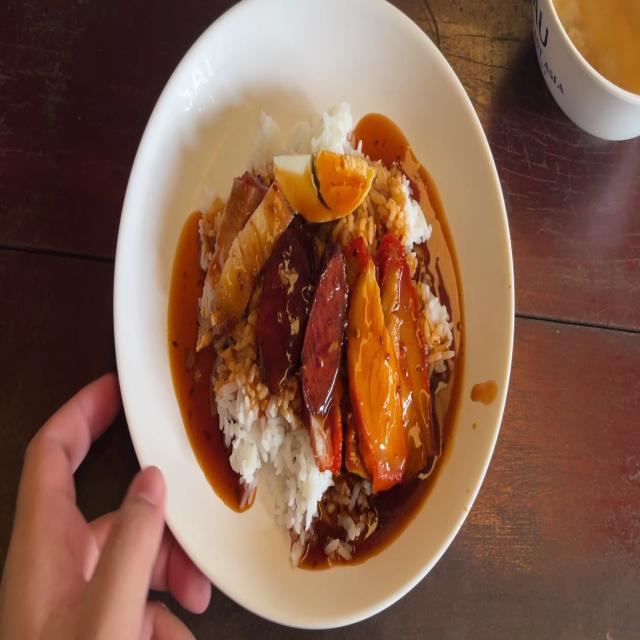01boiled_egg: (276, 159, 370, 219)
01chainese_sausage: (267, 233, 341, 409)
01crispy_pork: (205, 181, 279, 327)
01red_pork: (350, 247, 427, 472)
01red_pork_and_crispy_pork: (209, 95, 440, 525)
01rice: (214, 339, 265, 479), (266, 420, 316, 516)
